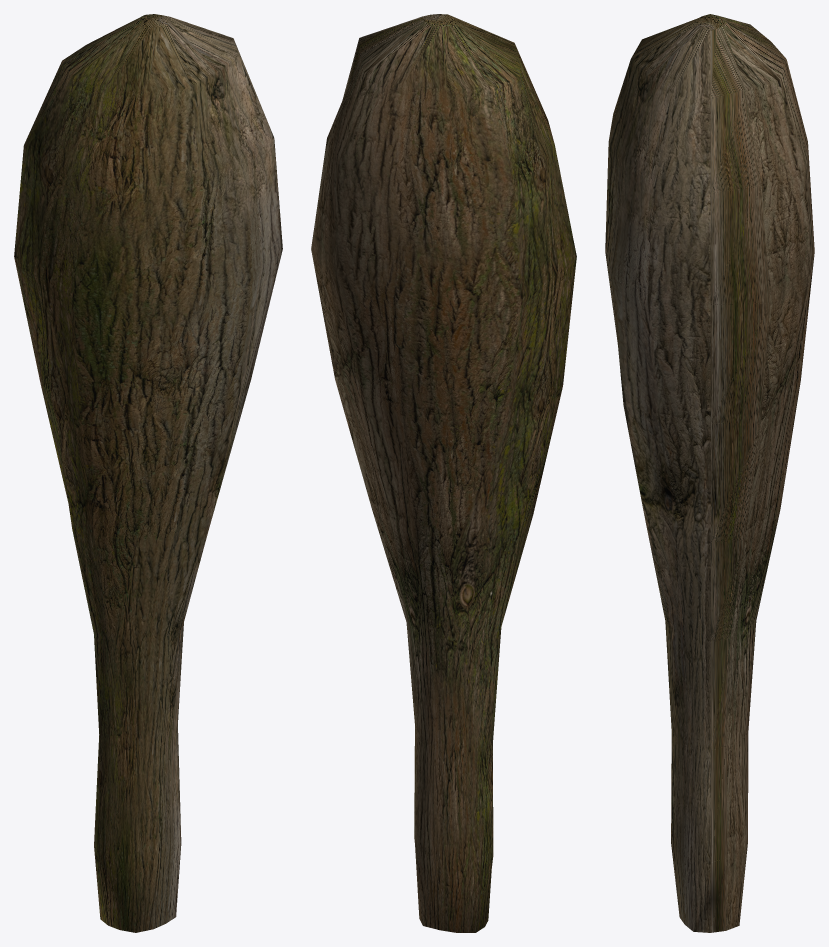
File: club.glb
3 renders of one model, left to right at view 1: azimuth 30°, elevation 25°; view 2: azimuth 150°, elevation 25°; view 3: azimuth 270°, elevation 25°, orthographic.
Parts seen in each view (by area): view 1: CarvedWoodClub; view 2: CarvedWoodClub; view 3: CarvedWoodClub.
Part boxes in pixels (x1,y1,x2,y2): CarvedWoodClub: (14,14,282,932); CarvedWoodClub: (311,14,576,932); CarvedWoodClub: (605,14,814,932).
Bounding box in the file's own units: 0.2422 × 0.97 × 0.2041.
1 material, 1 textured.
